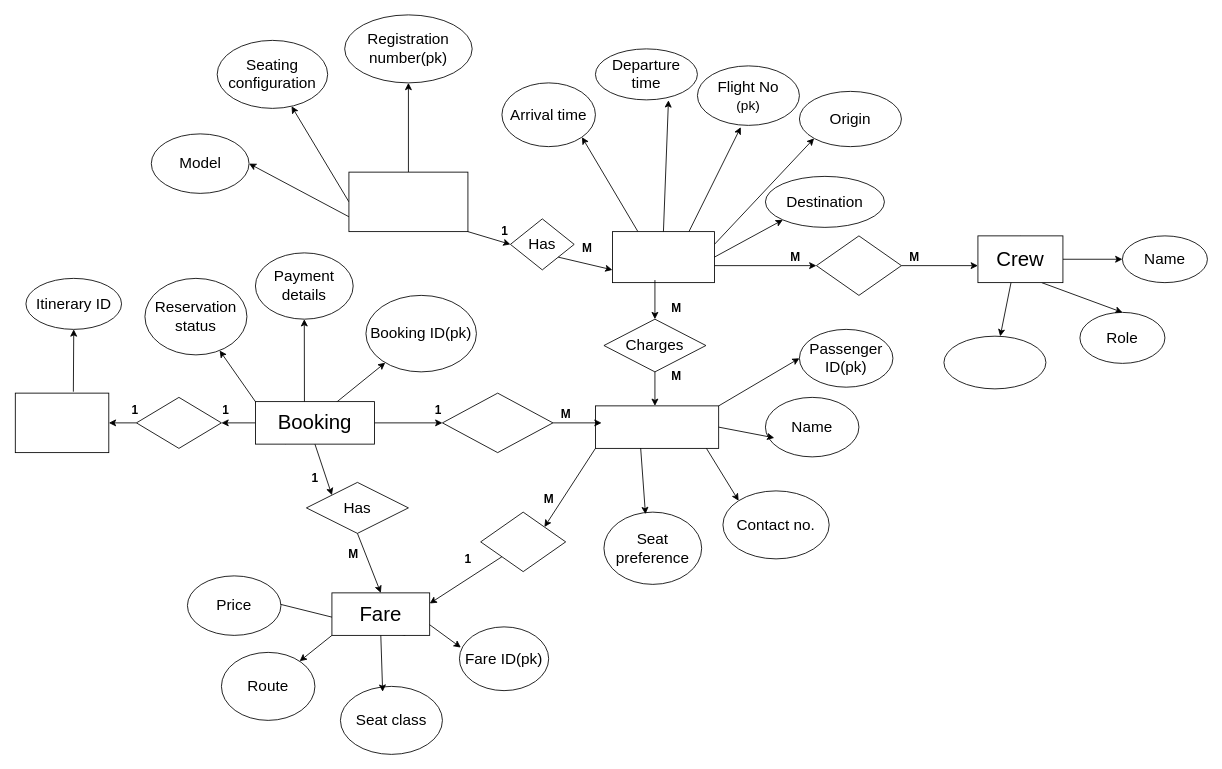
Image size: 1222x769. Some labels were removed from this diagram. The centre of each missing label's shape, as x and y in pixels:
Aircraft: (408,201)
By: (497,422)
Carries: (858,265)
Contains: (178,422)
Crew ID(pk): (994,362)
Flight: (663,257)
Itinerary: (61,422)
Passenger: (657,426)
Pays: (523,541)
